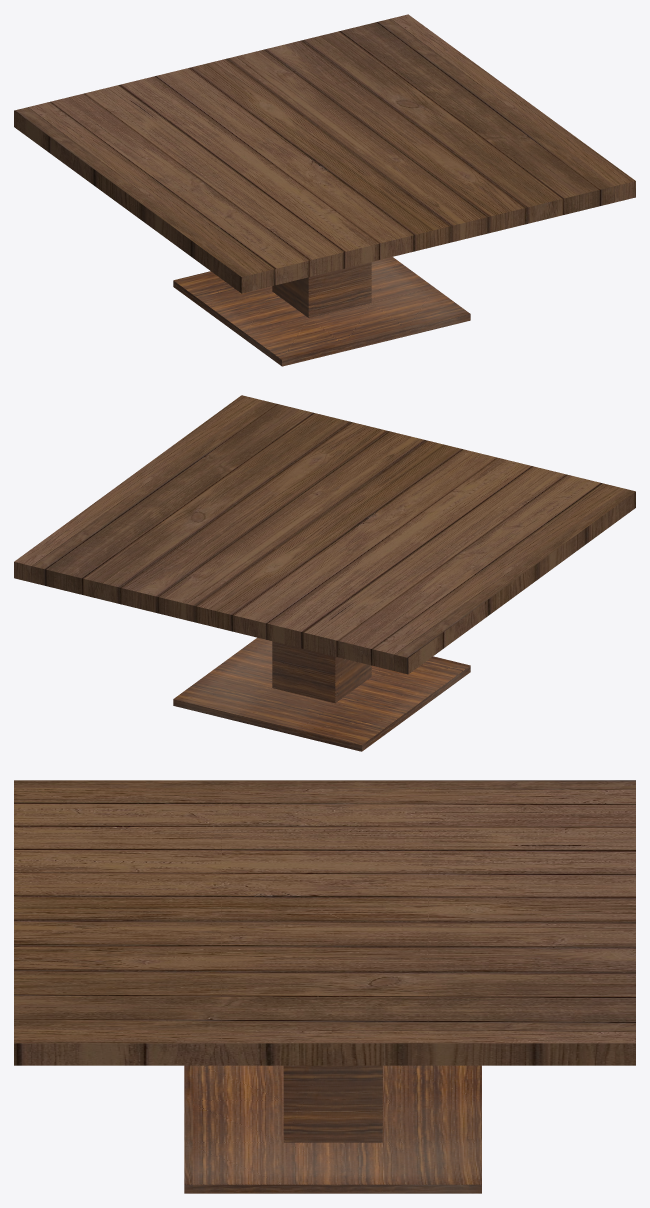
Rendered from Square Wood Table.fbx.
3 views of the same model, one above another, from view 1: azimuth 30°, elevation 25°; view 2: azimuth 150°, elevation 25°; view 3: azimuth 270°, elevation 25° (orthographic). The views are drawn at different scales.
Visible parts, largest first — view 1: pasted__pCube1, pCube1; view 2: pasted__pCube1, pCube1; view 3: pasted__pCube1, pCube1.
Boxes of the visible parts, x1,y1,x2,y2 form: pasted__pCube1: (14, 14, 635, 293); pCube1: (173, 257, 470, 366); pasted__pCube1: (14, 395, 635, 674); pCube1: (173, 637, 470, 751); pasted__pCube1: (14, 780, 635, 1065); pCube1: (184, 1065, 481, 1193).
Bounding box in the file's own units: 6.27 × 2.43 × 6.27.
2 materials, 2 textured.
